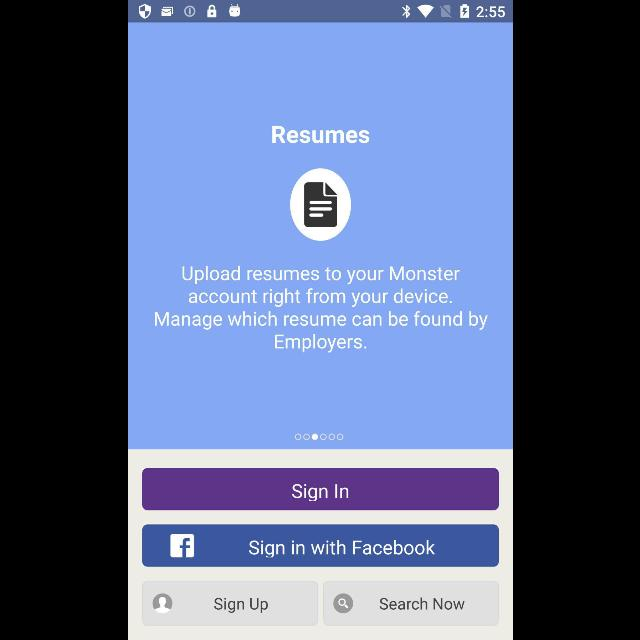image: (288, 168, 350, 240)
pageindicator: (293, 432, 343, 442)
text: (154, 311, 486, 354), (181, 265, 459, 307), (271, 126, 369, 144)
textbutton: (142, 524, 498, 568), (142, 468, 498, 510), (141, 580, 317, 626), (322, 582, 498, 626)
uppertaskbar: (128, 1, 512, 23)
